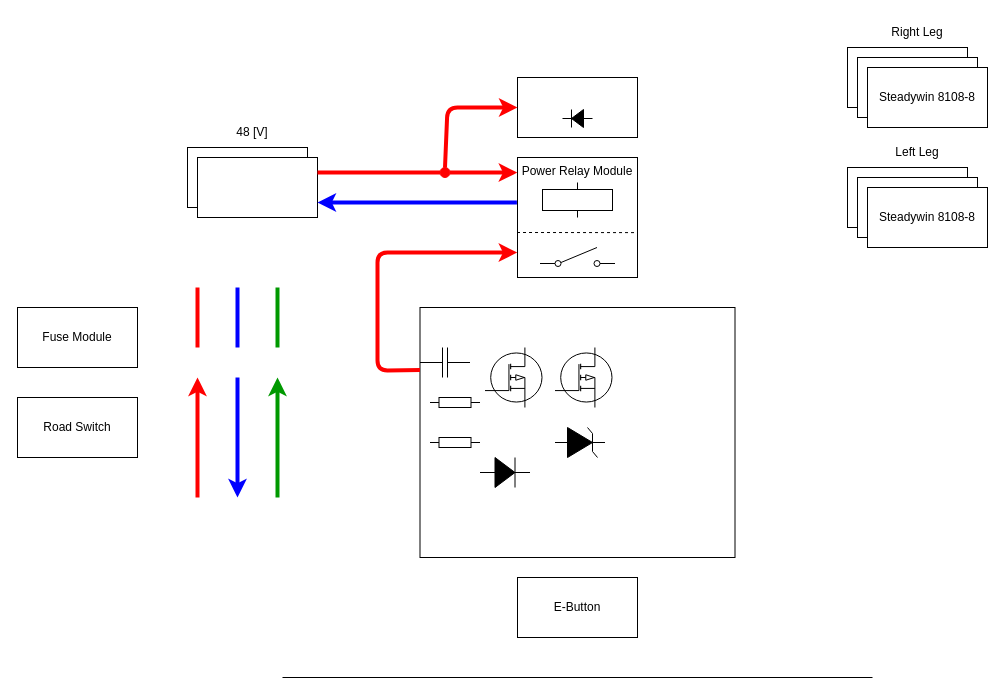
This 1005x696 diagram has some shape labels left out. Each missing label, with the box of its shape:
Diode Module (Surge Killer): (516, 76, 638, 138)
LiPo Battery 24 [V]: (196, 156, 318, 218)
Relay Switch & Surge Killer Subtrate: (419, 306, 735, 558)
